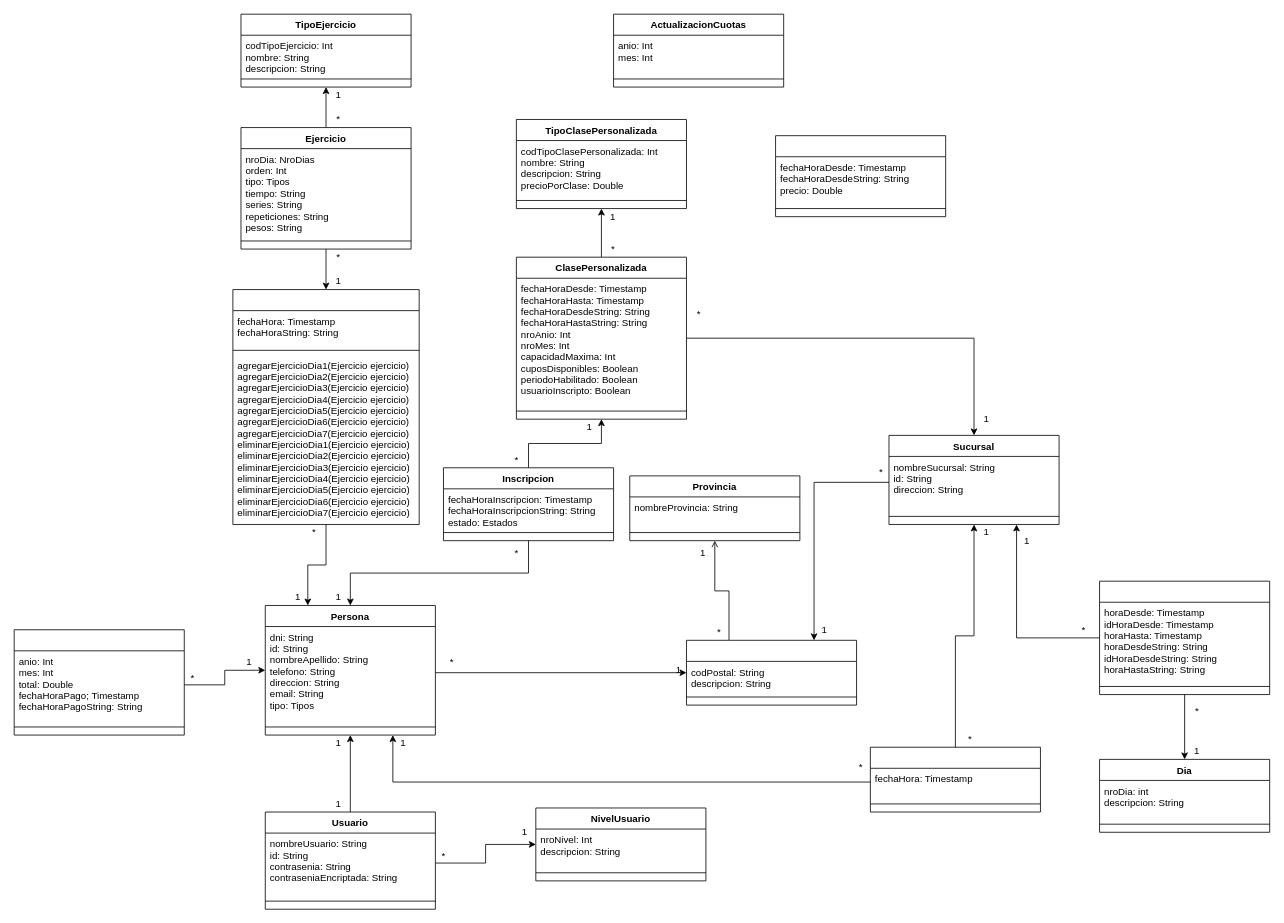
Some shapes in this 1284 by 923 pixel diagram are drawn without their labels. Here are the shapes that lost their labels. From the top down, the box of each, then its label:
(775, 135, 946, 217): PrecioGimnasio
(232, 289, 419, 524): Rutina
(1099, 580, 1270, 695): Horario
(13, 629, 184, 735): Cuota
(686, 639, 857, 705): Ciudad
(870, 746, 1040, 812): Asistencia
